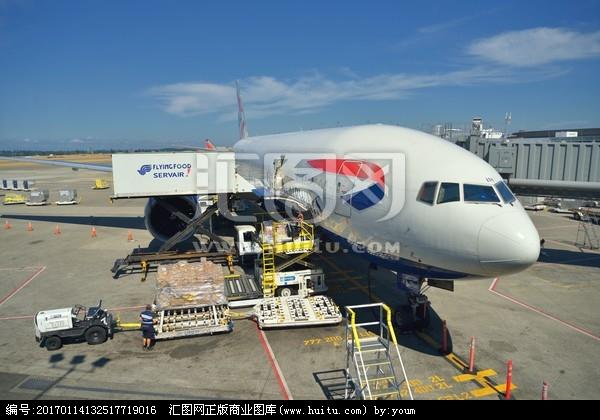airplane: (7, 121, 546, 315)
